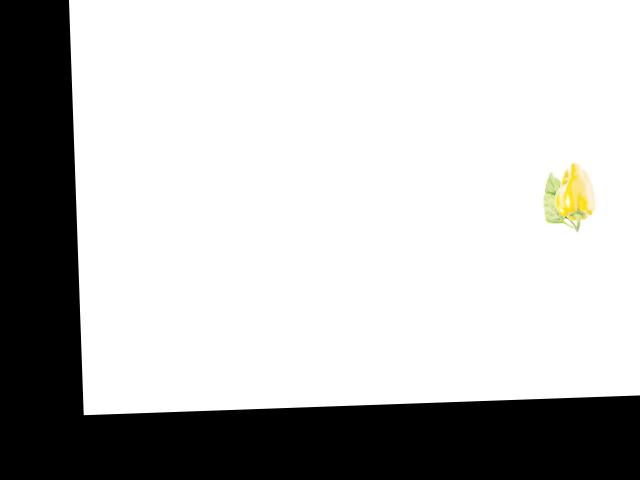bell_pepper: (552, 160, 599, 233)
